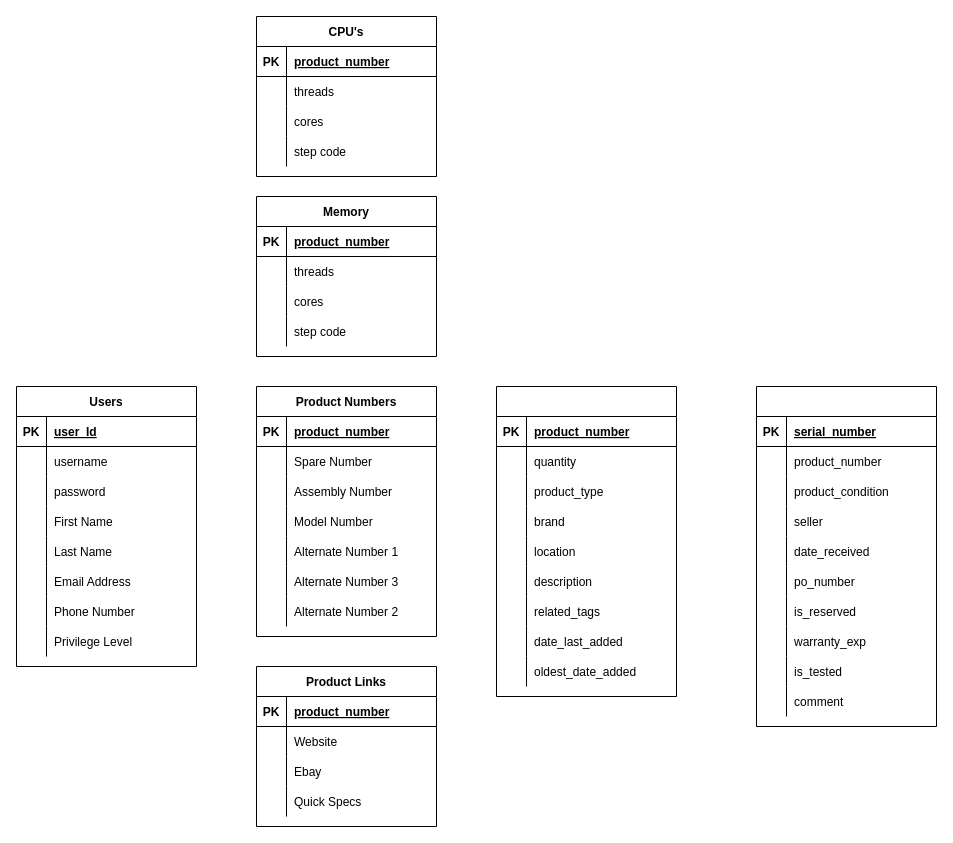
Image size: 953x843. Some labels were removed from this diagram. The shapes that lost their labels are listed below. From the top down, each one's box as (x1, y1, x2, y2) in pixels, then its label:
(496, 386, 676, 696): Products
(756, 386, 936, 726): Inventory
